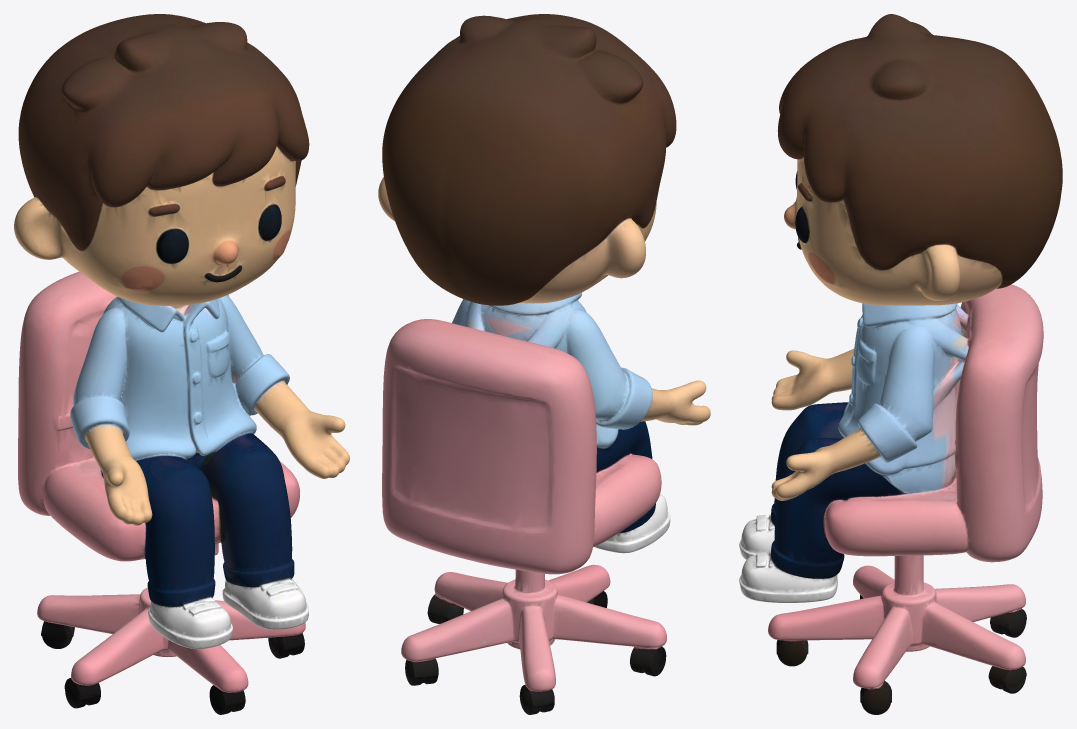
Rendered from seat_male_v2.glb.
3 views of the same model, side by side, from view 1: azimuth 30°, elevation 25°; view 2: azimuth 150°, elevation 25°; view 3: azimuth 270°, elevation 25° (orthographic). The views are drawn at different scales.
Bounding box in the file's own units: 0.8222 × 1.9 × 0.8911.
1 material, 1 textured.
